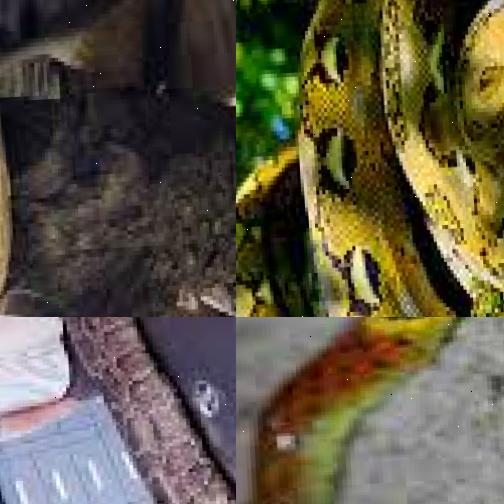snake: (236, 0, 504, 317), (0, 0, 236, 317), (236, 317, 504, 504), (0, 317, 236, 504)
